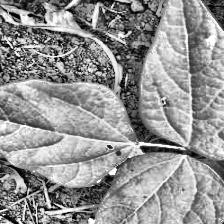ALS: (0, 80, 149, 184), (136, 0, 224, 158)
